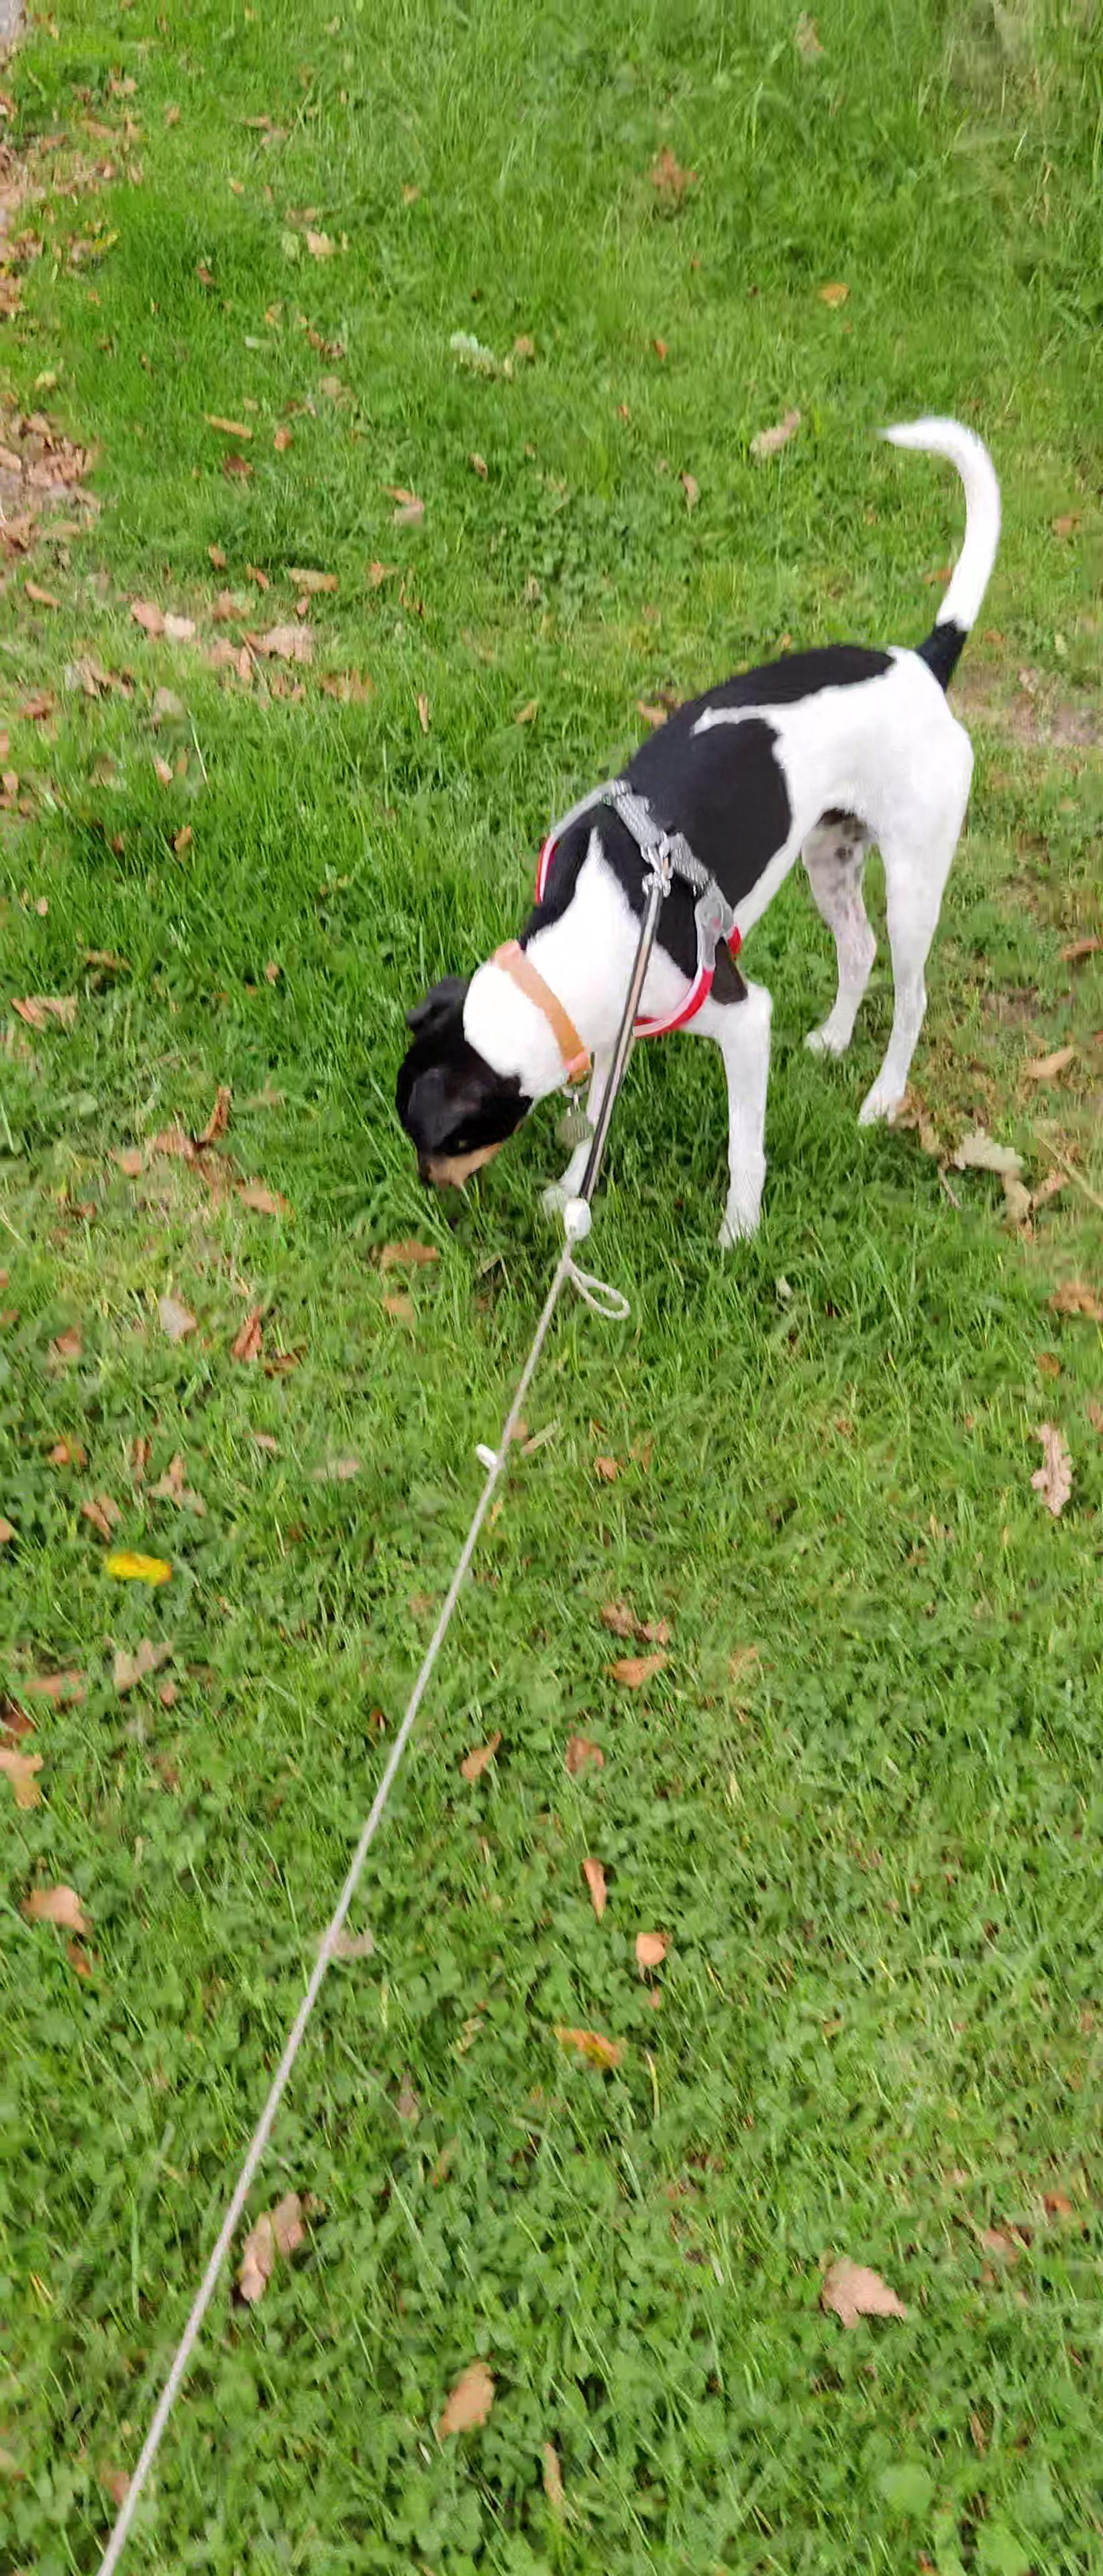Dog: (367, 370, 1042, 1273)
